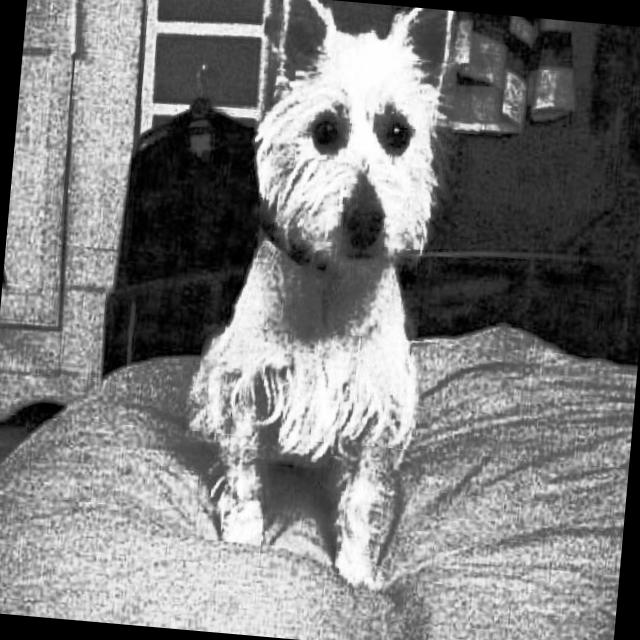Dog: (164, 0, 461, 601)
